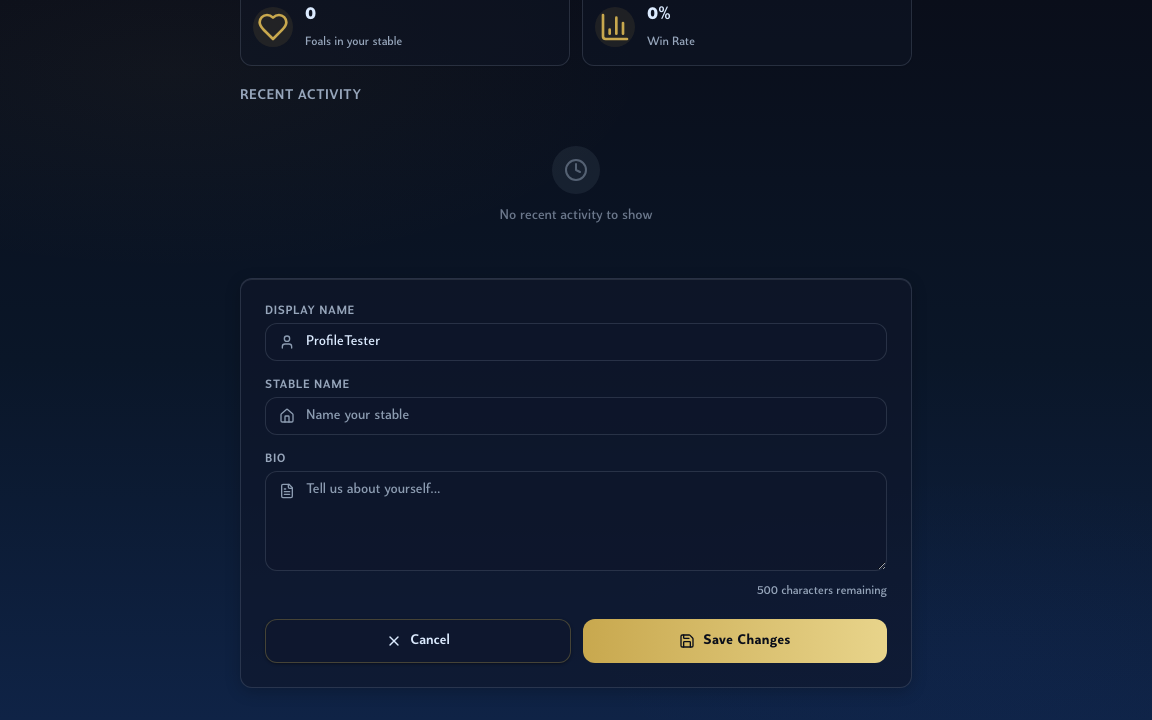
Test: ProfilePage — the stable name (Equoria-kgush) › refuses a two-letter stable name before sending anything
(page scrolled)
Type "ab" into the field labelled "Stable Name".
click(576, 416); type("ab")  # box [265, 397, 887, 435]
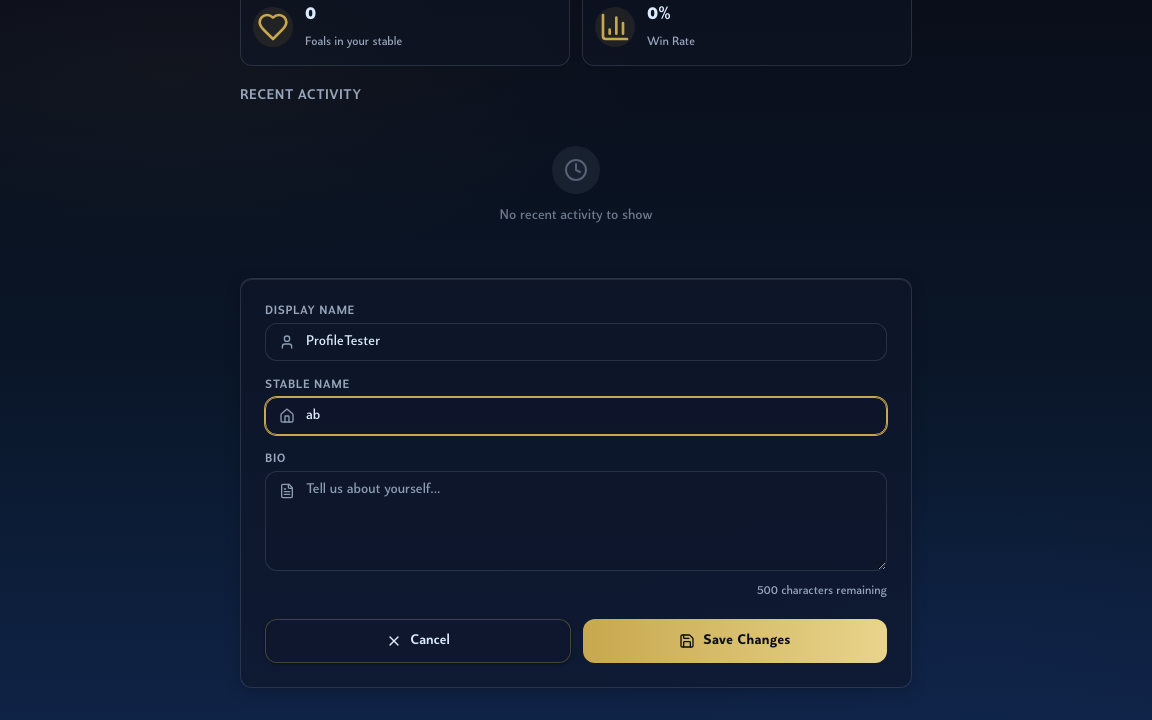
Click the button "Save Changes".
click(735, 641)  # box [583, 619, 887, 663]
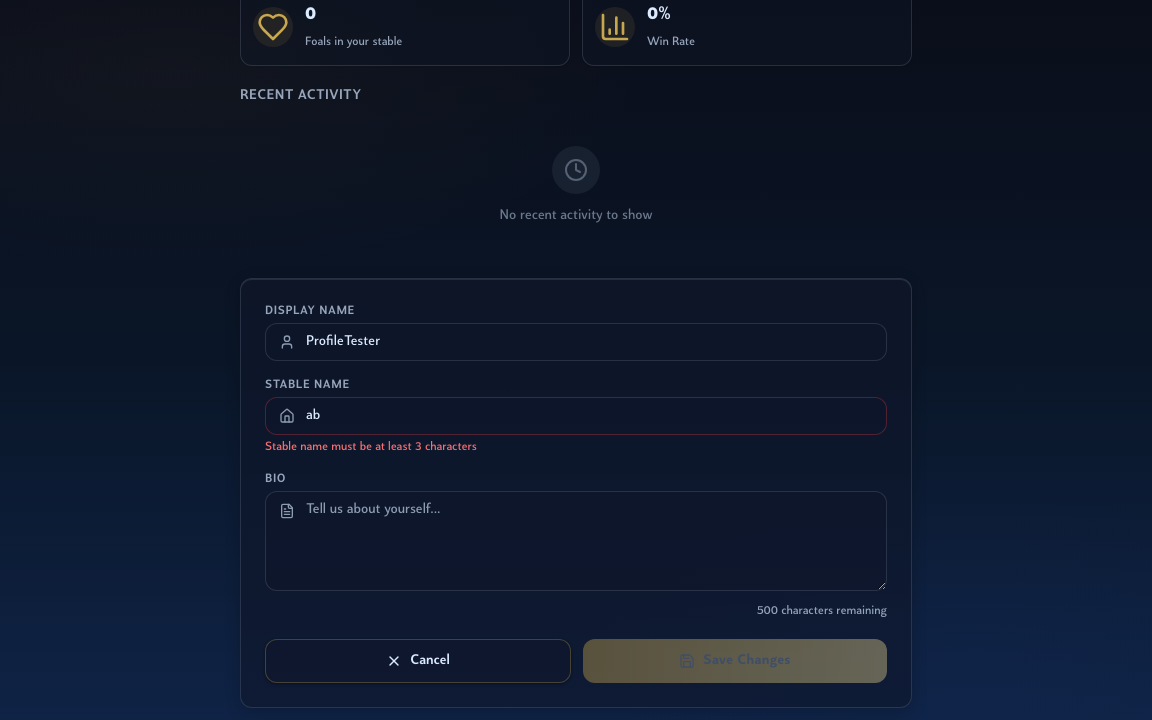
Check: the text "Stable name must be at least 3 characters" is shown, box [265, 441, 477, 453]
